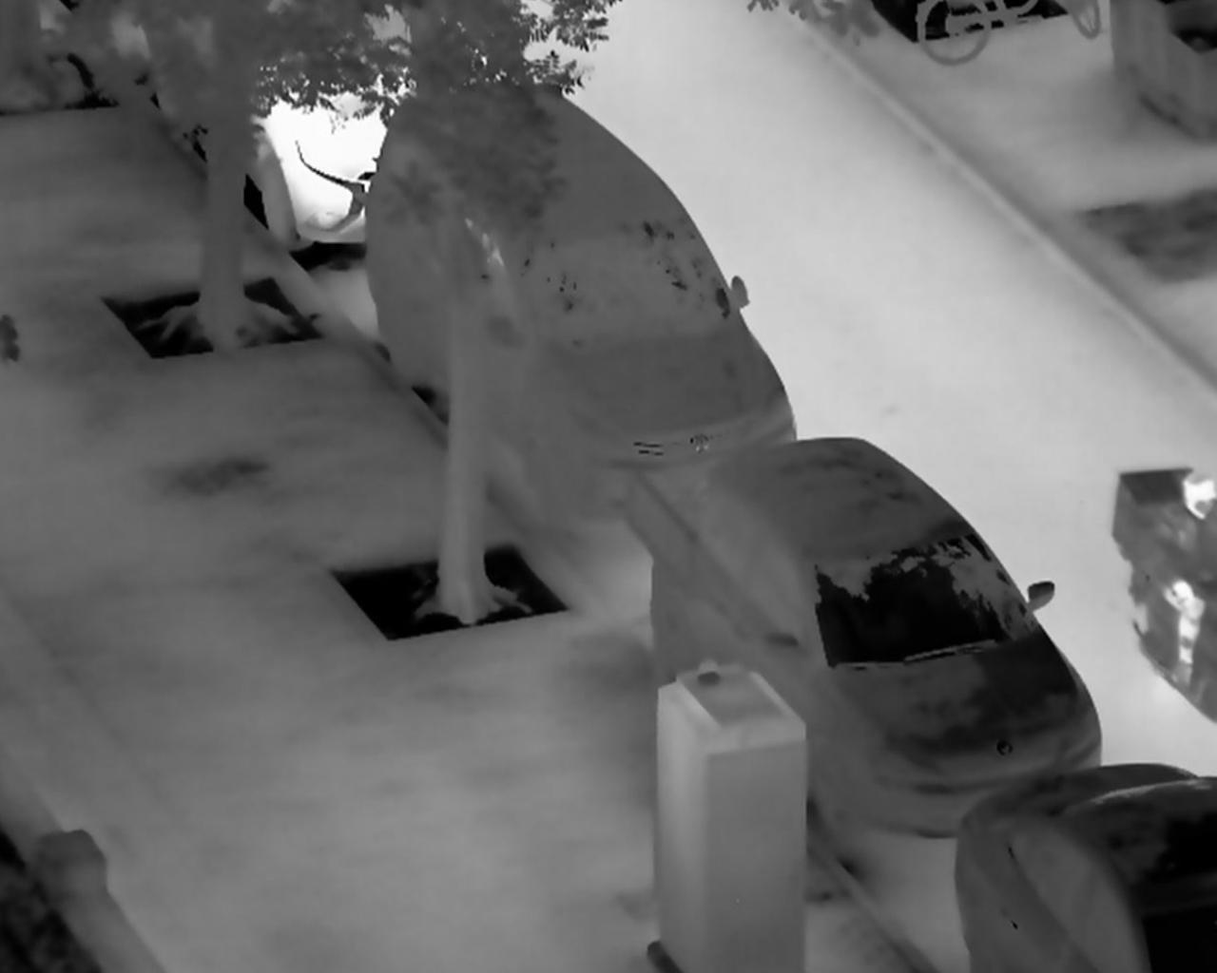person: (1136, 470, 1217, 686)
